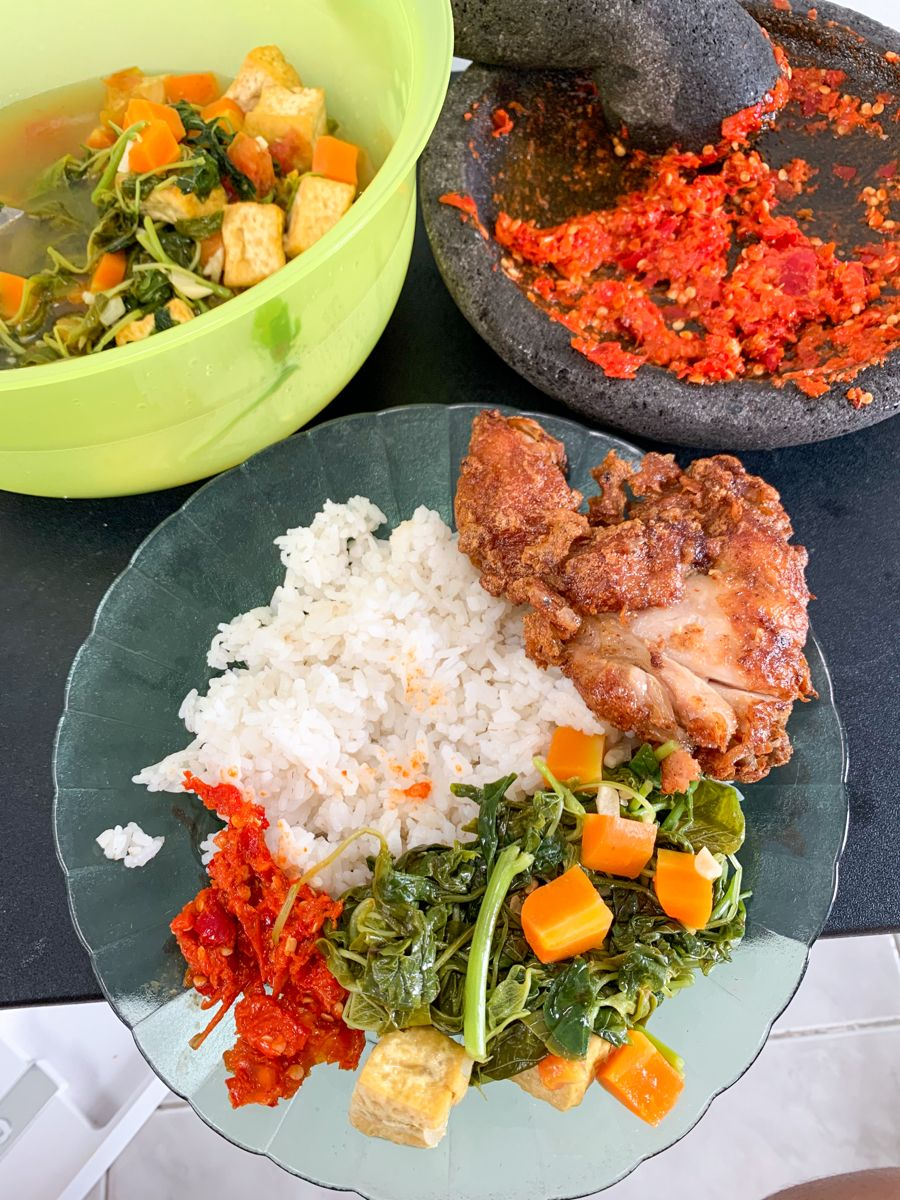buah_sayur_lainnya: (558, 223, 863, 331)
buah_sayur_vitA: (15, 85, 256, 294), (397, 867, 669, 1011)
daging: (605, 498, 782, 657)
makanan_berpati: (262, 613, 489, 778)
